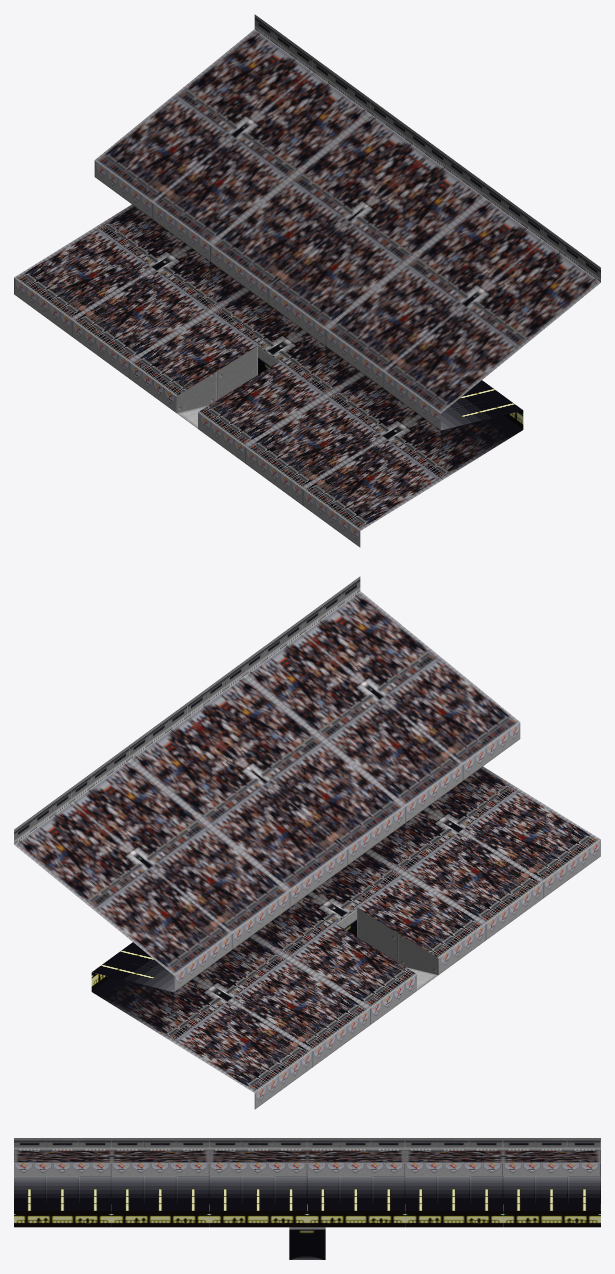
The picture shows the model from 3 angles, top to bottom: view 1: azimuth 30°, elevation 25°; view 2: azimuth 150°, elevation 25°; view 3: azimuth 270°, elevation 25°; orthographic projection. The views are drawn at different scales.
Bounding box in the file's own units: 34.12 × 30 × 85.05.
7 materials, 7 textured.
